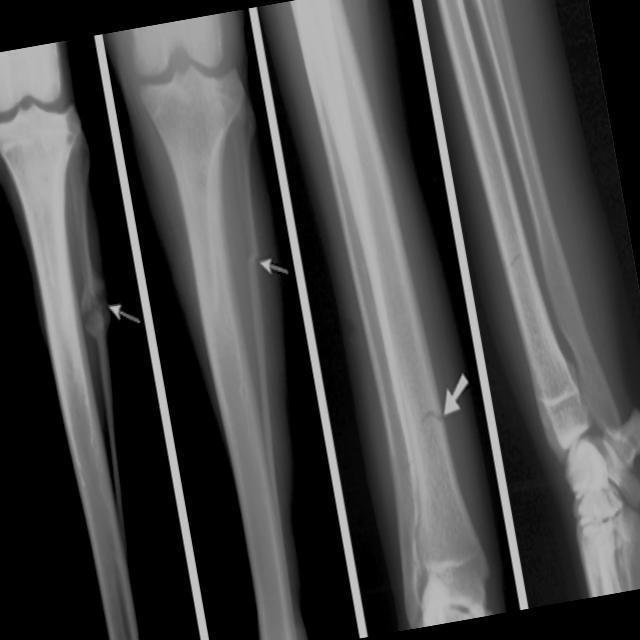HairLine Fracture: (76, 271, 110, 334), (414, 398, 444, 433), (244, 237, 261, 275)
